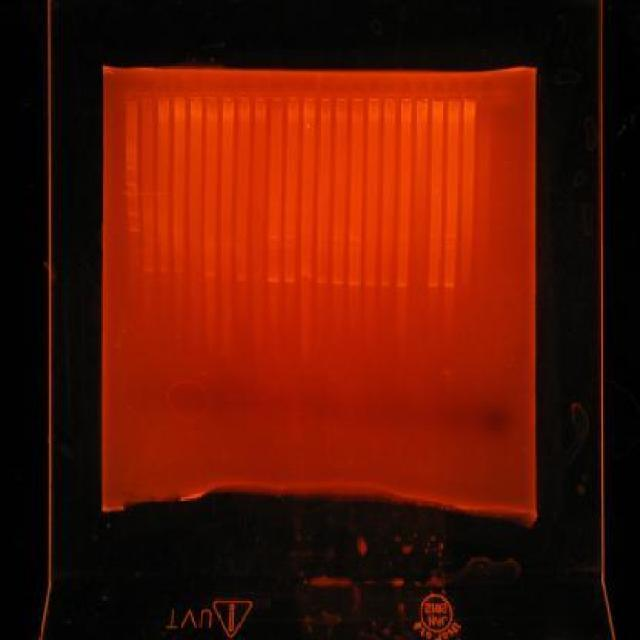B: (282, 276, 296, 284), (266, 276, 280, 284), (142, 266, 156, 274), (362, 280, 376, 288), (299, 272, 313, 280), (235, 274, 248, 282), (426, 282, 439, 290), (395, 280, 408, 288), (315, 277, 328, 285), (158, 267, 170, 275), (204, 270, 216, 278), (380, 280, 392, 288), (442, 282, 456, 288), (444, 233, 458, 239), (444, 244, 458, 250), (266, 244, 280, 250), (332, 234, 346, 240), (331, 280, 344, 286), (316, 234, 329, 240), (348, 234, 361, 240), (396, 233, 409, 239), (332, 244, 345, 250), (429, 233, 442, 239), (268, 234, 280, 240), (284, 234, 296, 240), (348, 281, 360, 287), (174, 268, 186, 274), (348, 248, 361, 252)
L: (120, 85, 512, 108)
M: (122, 91, 141, 352)
P: (126, 210, 139, 218), (125, 180, 138, 188), (126, 227, 140, 233), (124, 152, 138, 158), (125, 166, 138, 172), (125, 158, 138, 162)
Pc: (270, 90, 284, 104), (173, 92, 187, 105), (463, 91, 477, 104), (319, 90, 332, 104), (286, 90, 300, 102), (238, 90, 252, 102), (140, 92, 154, 103), (156, 93, 170, 104), (204, 92, 218, 103), (494, 91, 508, 102), (479, 91, 493, 102), (432, 93, 446, 104), (416, 93, 430, 104), (384, 91, 398, 102), (367, 92, 381, 103), (334, 91, 348, 102), (302, 91, 316, 102), (254, 91, 268, 102), (220, 91, 234, 102), (125, 93, 138, 104), (401, 92, 414, 103), (351, 92, 364, 103), (190, 92, 202, 103), (448, 92, 460, 103)
